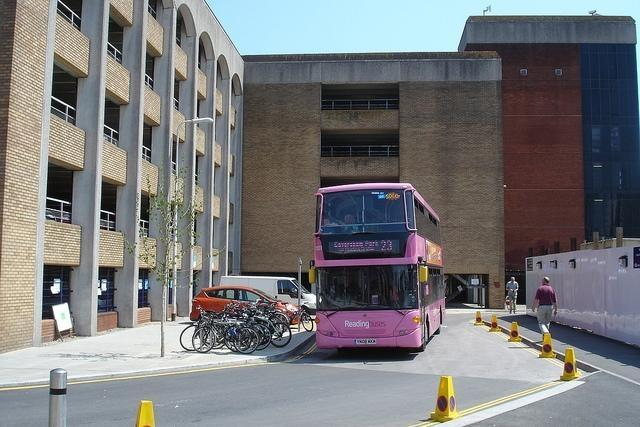bicycle: (192, 314, 260, 354), (248, 309, 291, 348), (280, 302, 313, 332), (219, 301, 250, 326), (258, 305, 291, 326), (250, 323, 272, 351)
bus: (316, 184, 444, 348)
car: (190, 286, 299, 325)
truck: (220, 275, 316, 314)
